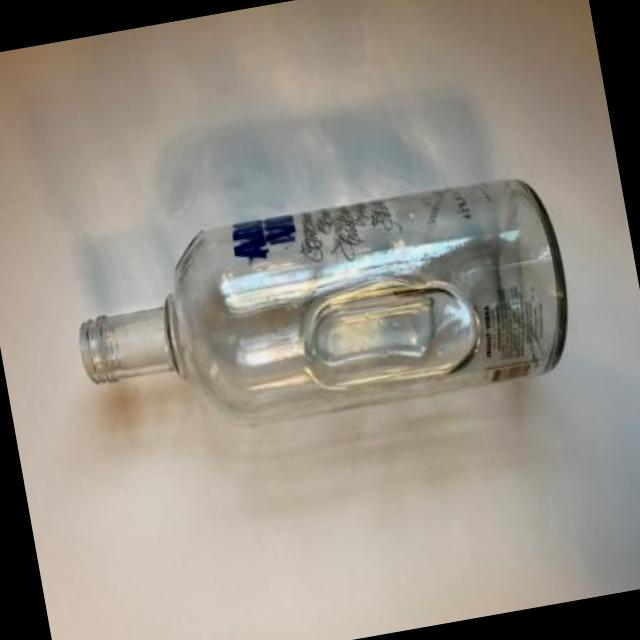chai_thuy_tinh: (78, 178, 567, 422)
